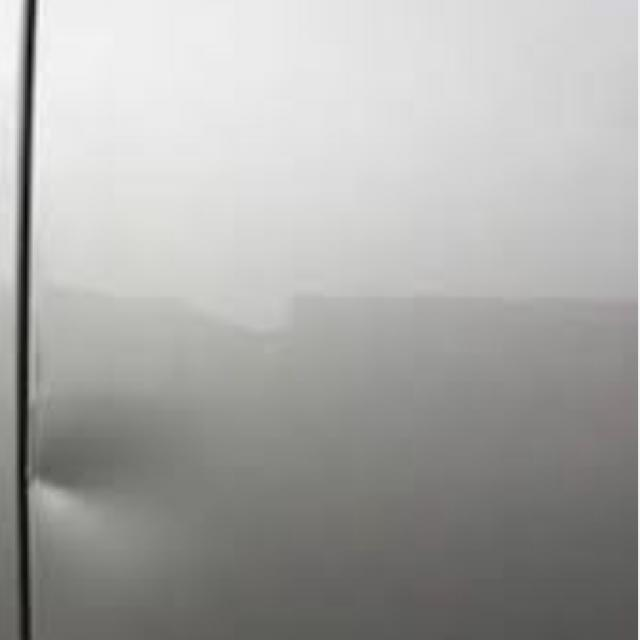dents: (34, 396, 146, 553)
